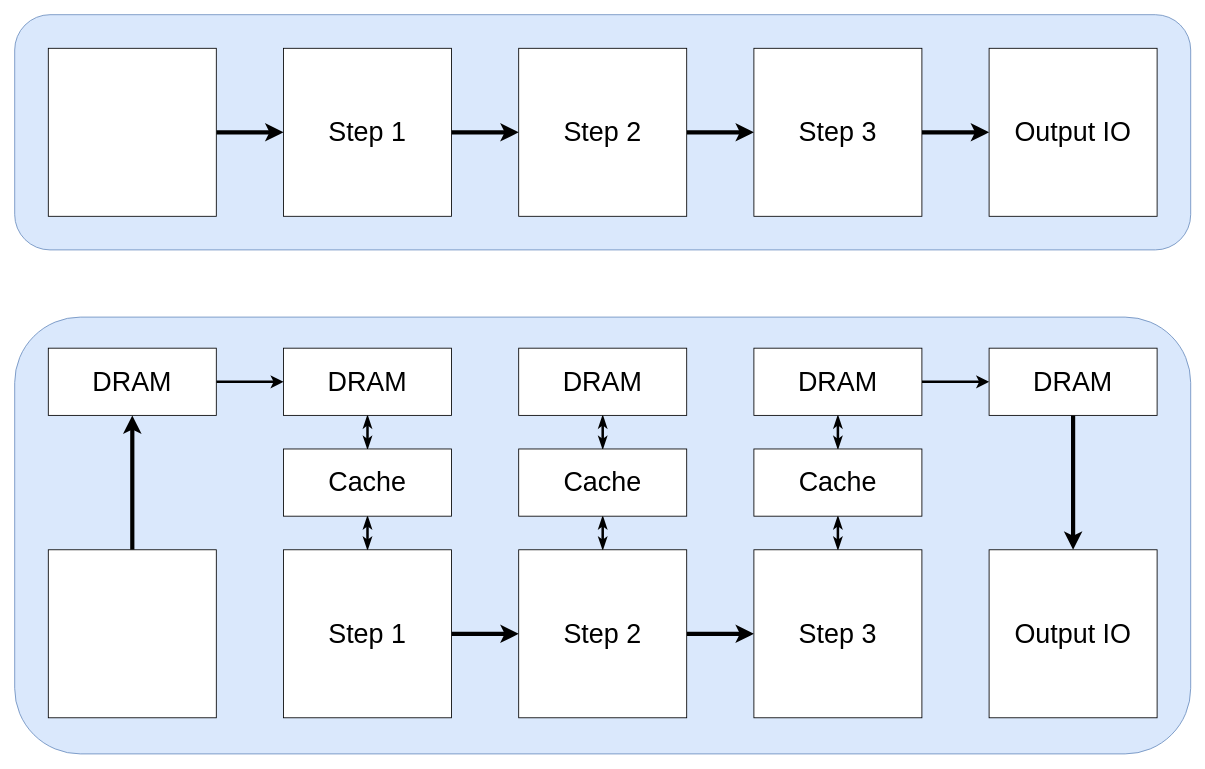
This 1205x769 diagram has some shape labels left out. Each missing label, with the centre of its shape:
Sensor: the point at 131,633
Sensor IO: the point at 131,131
